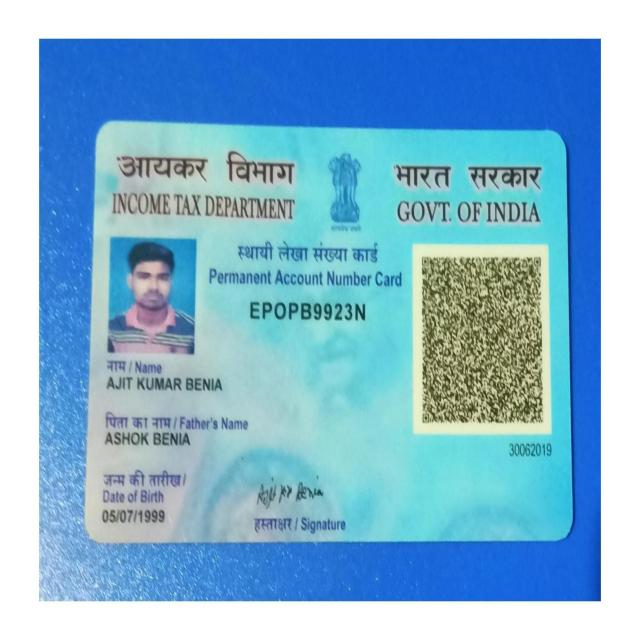pan_card: (96, 138, 566, 536)
